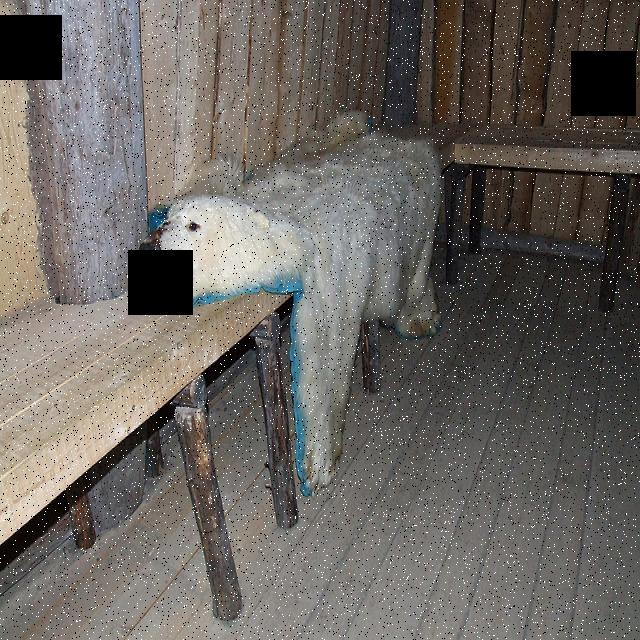Bear: (150, 94, 452, 492)
